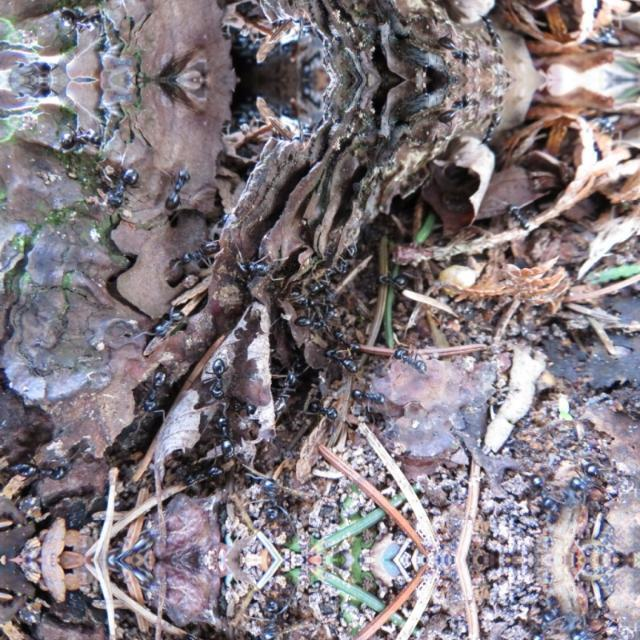Lasius: (228, 240, 284, 286), (160, 153, 197, 214), (167, 236, 233, 270), (254, 474, 290, 530), (98, 161, 136, 211), (321, 338, 369, 377), (254, 588, 290, 640), (390, 338, 430, 384), (10, 456, 81, 480), (497, 197, 547, 231), (524, 470, 556, 522), (206, 350, 237, 402), (54, 126, 102, 158), (54, 2, 102, 34), (212, 412, 242, 462), (524, 598, 556, 640), (266, 364, 298, 404), (368, 267, 412, 293), (307, 393, 338, 427), (354, 385, 392, 411), (298, 313, 334, 337)
